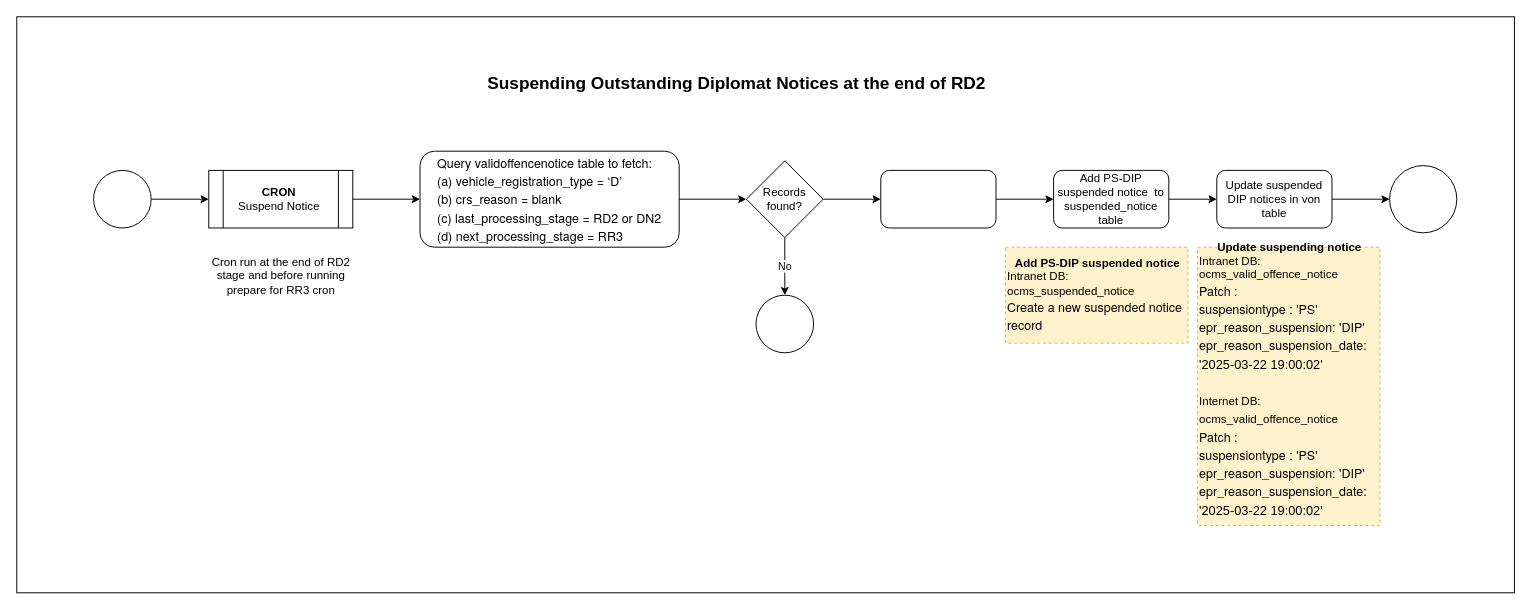
This 1531x610 diagram has some shape labels left out. The centre of each missing label's shape, as x and y in pixels:
"Diplomat Notices are suspended with 'PS-DIP'" goes at point 938,198.
"End" goes at point 784,323.
"Notice processing stops" goes at point 1423,199.
"Start" goes at point 122,198.
